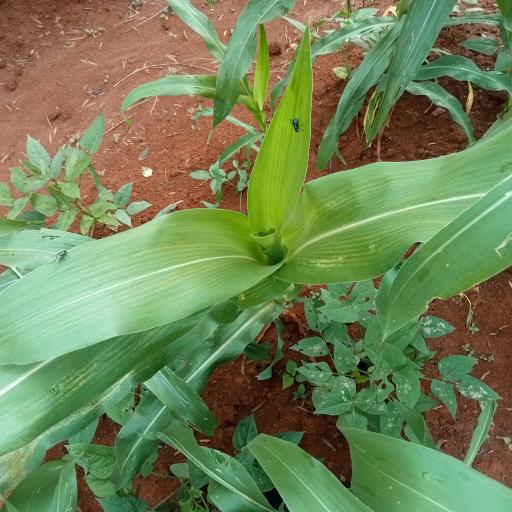Corn_Brown_Spots: (266, 127, 512, 286)
